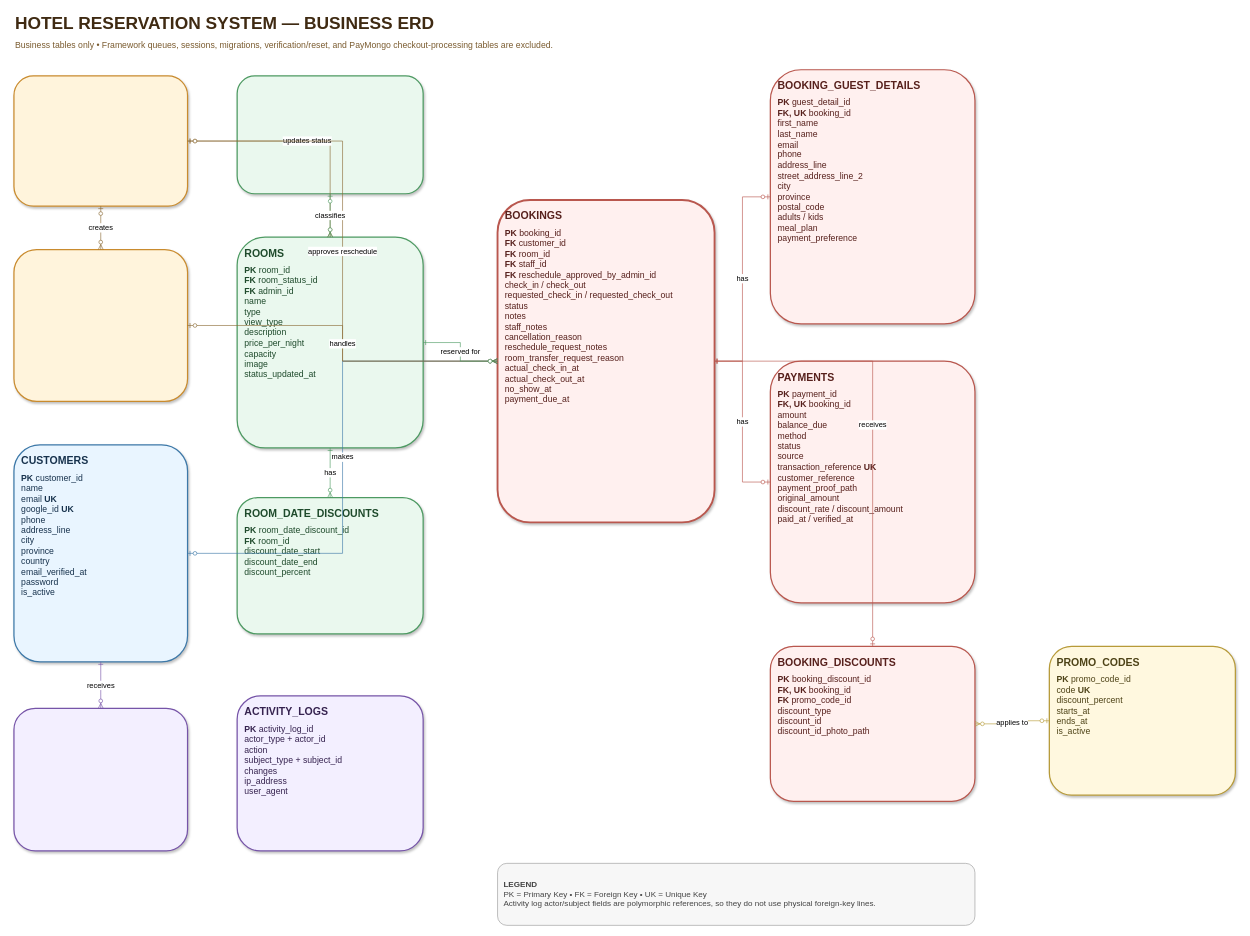
This 1250x936 diagram has some shape labels left out. Each missing label, with the centre of its shape:
"ADMINS PK admin_id name username UK phone password" goes at point 101,142.
"NOTIFICATIONS PK id type notifiable_type notifiable_id data read_at" goes at point 101,780.
"ROOM_STATUS PK room_status_id name slug UK description" goes at point 330,135.
"STAFF PK staff_id FK admin_id name username UK phone password is_active" goes at point 101,326.
